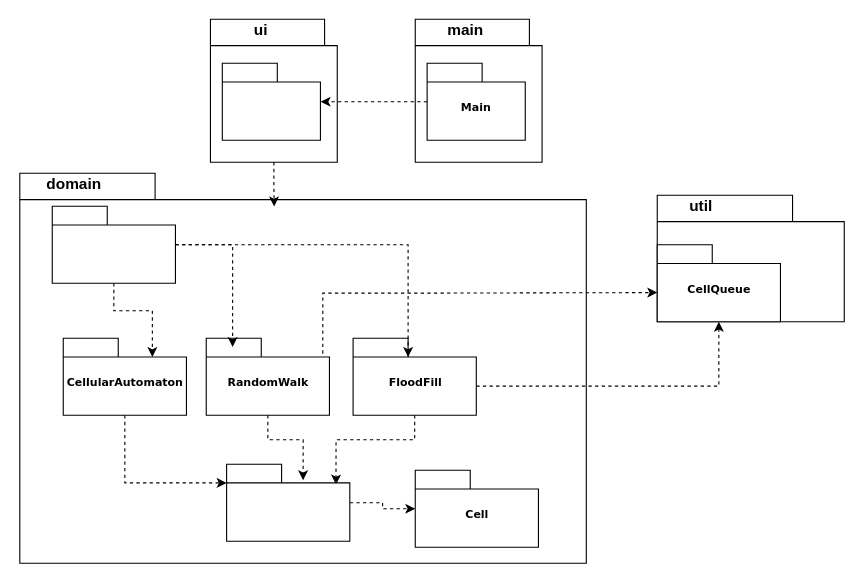
This 864x583 diagram has some shape labels left out. Here are the shapes that lost their labels. From the top down, the box of each, then its label:
(221, 62, 320, 140): GUI
(51, 205, 175, 283): PerformanceTests
(226, 463, 350, 541): Dungeon
